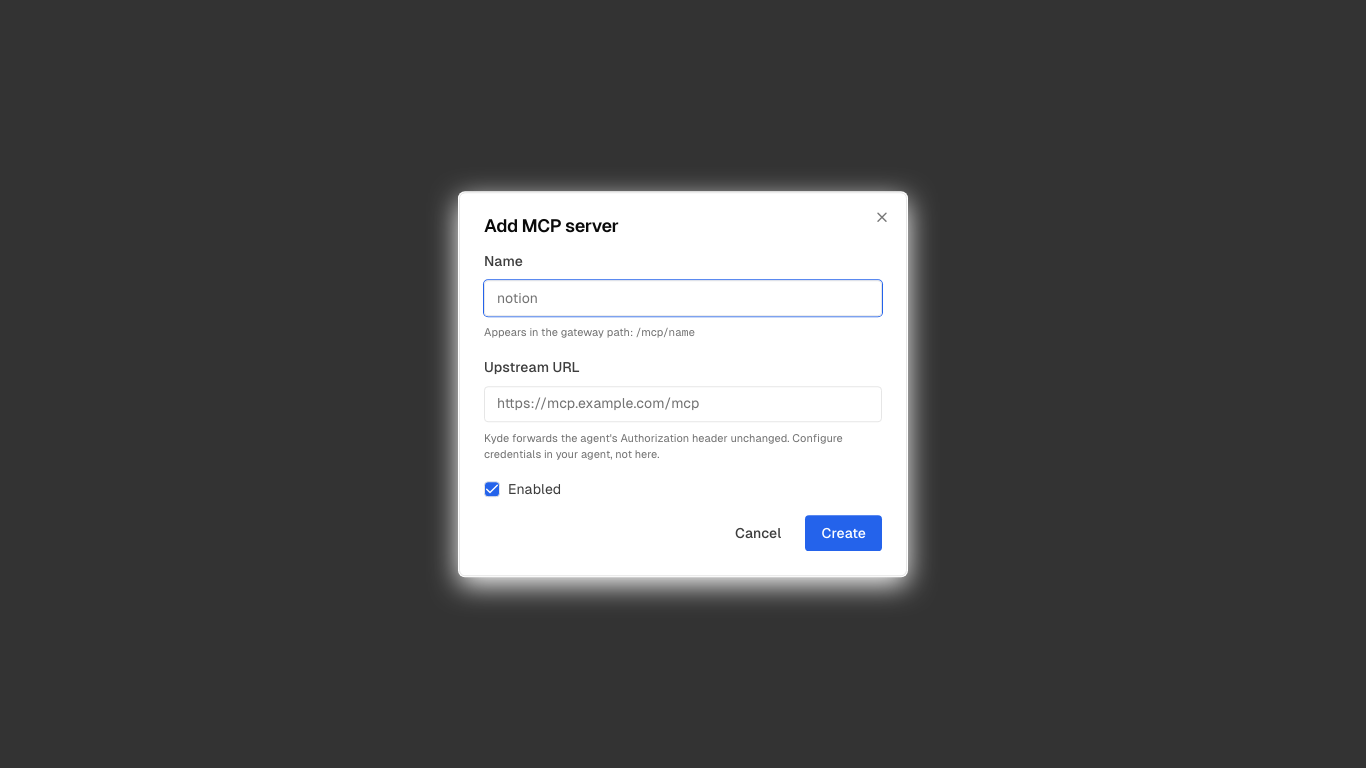
McpServerDialog — add validation (mirrors backend mcp_registry._NAME_RE) › rejects an uppercase / invalid name
Type "Notion" into the field with placeholder "notion" at [683, 298], box [484,280,882,316]
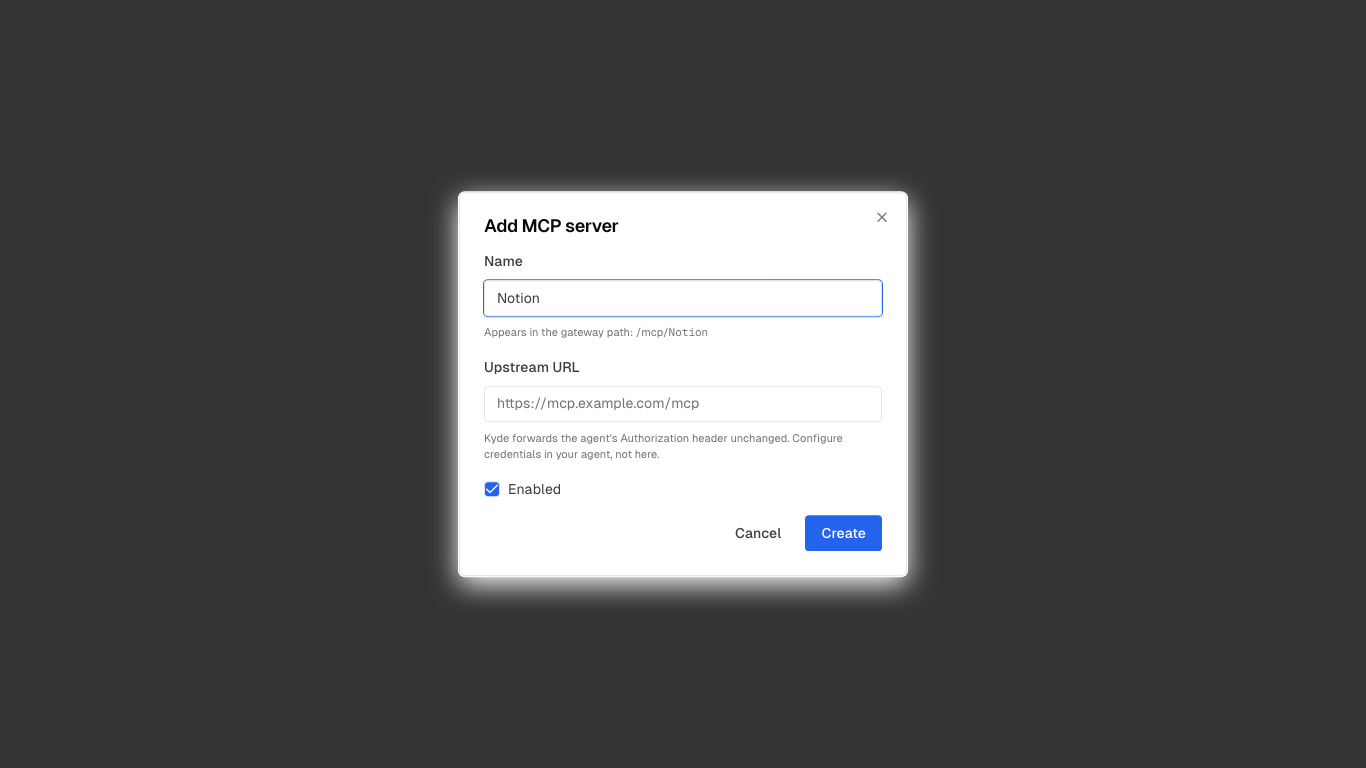
Type "https://mcp.example.com" into the field with placeholder "https://mcp.example.com/mcp" at [683, 404], box [484,386,882,422]
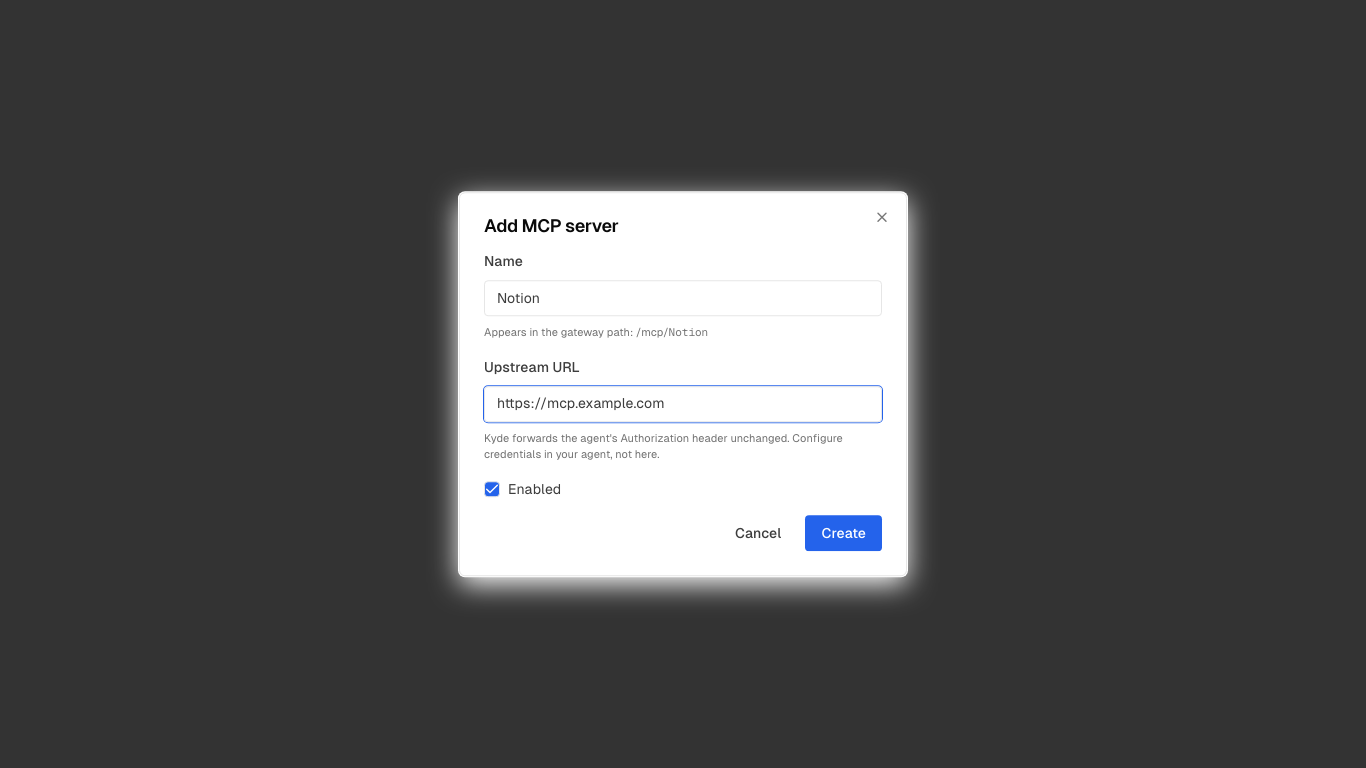
Click the button "Create" at [844, 533], box [805,515,882,551]
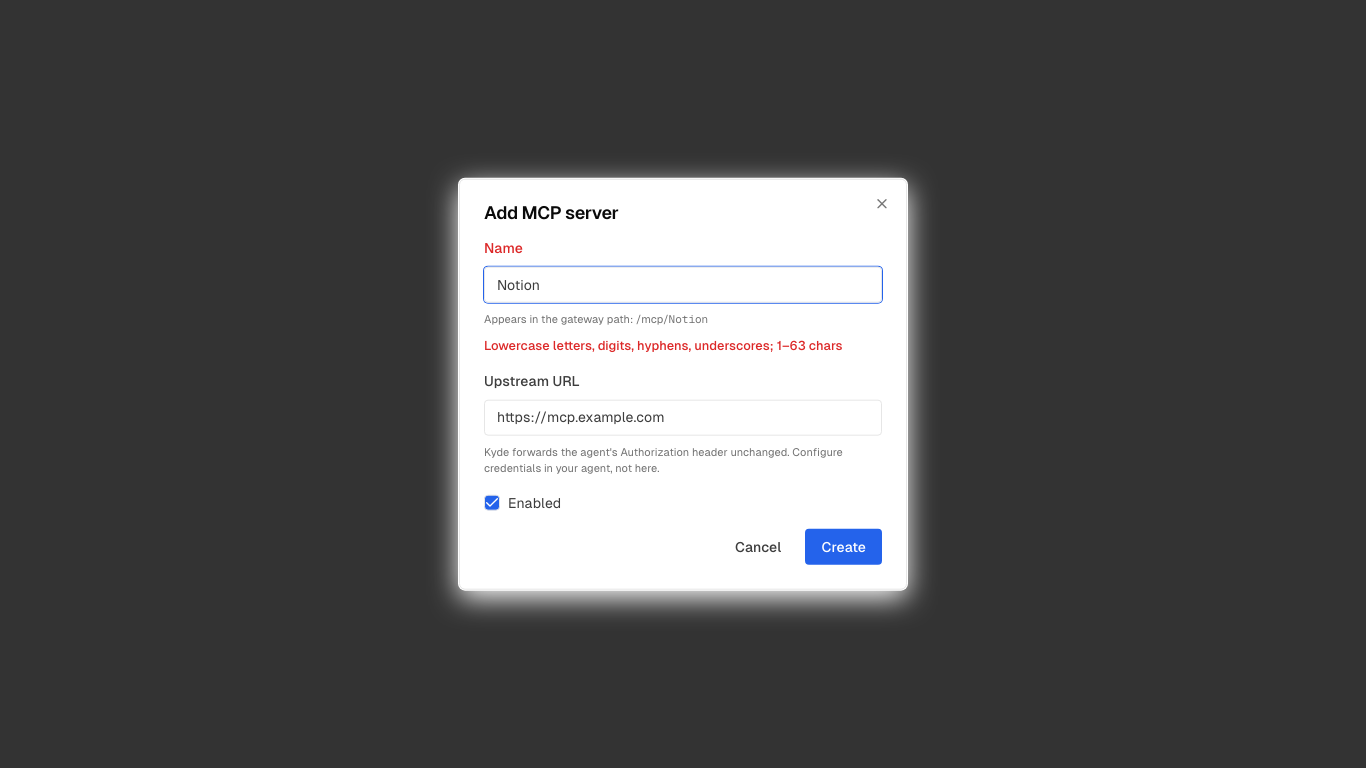
Result: the text "Lowercase letters, digits, hyphens, underscores; 1–63 chars" is shown at [484,335,882,354]
